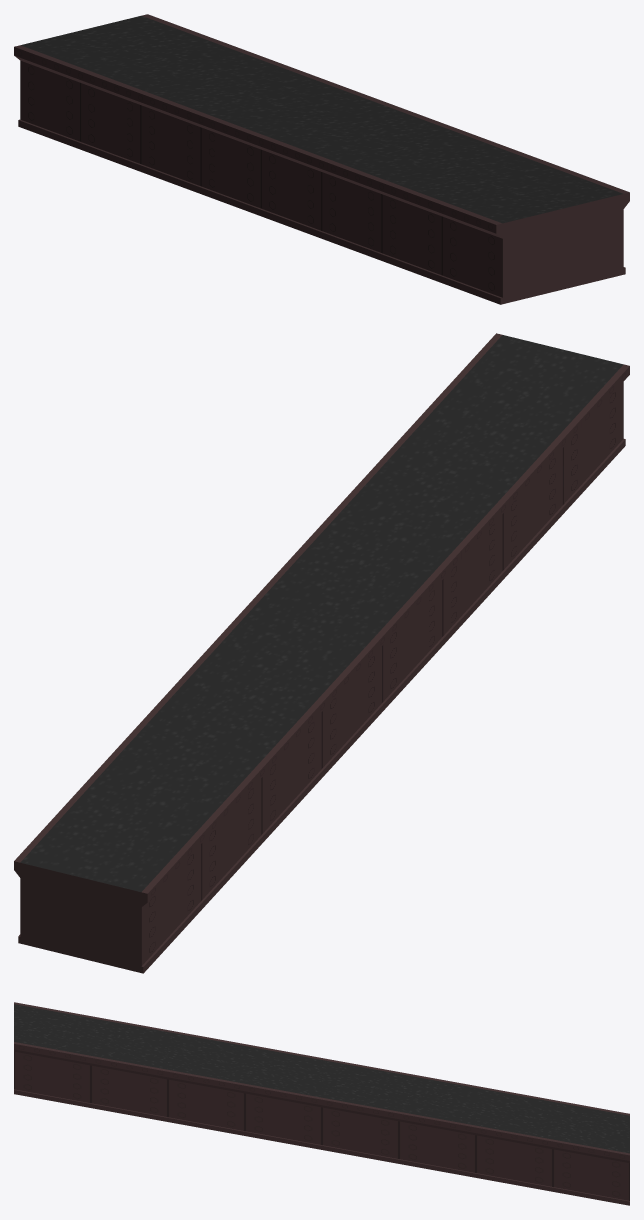
File: SW_ENV_EL_TrackBase_Rise_20m.fbx
The picture shows the model from 3 angles, top to bottom: view 1: azimuth 30°, elevation 25°; view 2: azimuth 150°, elevation 25°; view 3: azimuth 270°, elevation 25°; orthographic projection. The views are drawn at different scales.
Parts seen in each view (by area): view 1: SW_ENV_EL_TrackBase_Rise_20m; view 2: SW_ENV_EL_TrackBase_Rise_20m; view 3: SW_ENV_EL_TrackBase_Rise_20m.
Part boxes in pixels (<box>): SW_ENV_EL_TrackBase_Rise_20m: <box>14,14,629,304</box>; SW_ENV_EL_TrackBase_Rise_20m: <box>14,333,629,973</box>; SW_ENV_EL_TrackBase_Rise_20m: <box>14,1002,629,1205</box>.
Size of the model in its own units: 320 by 585 by 2000.
